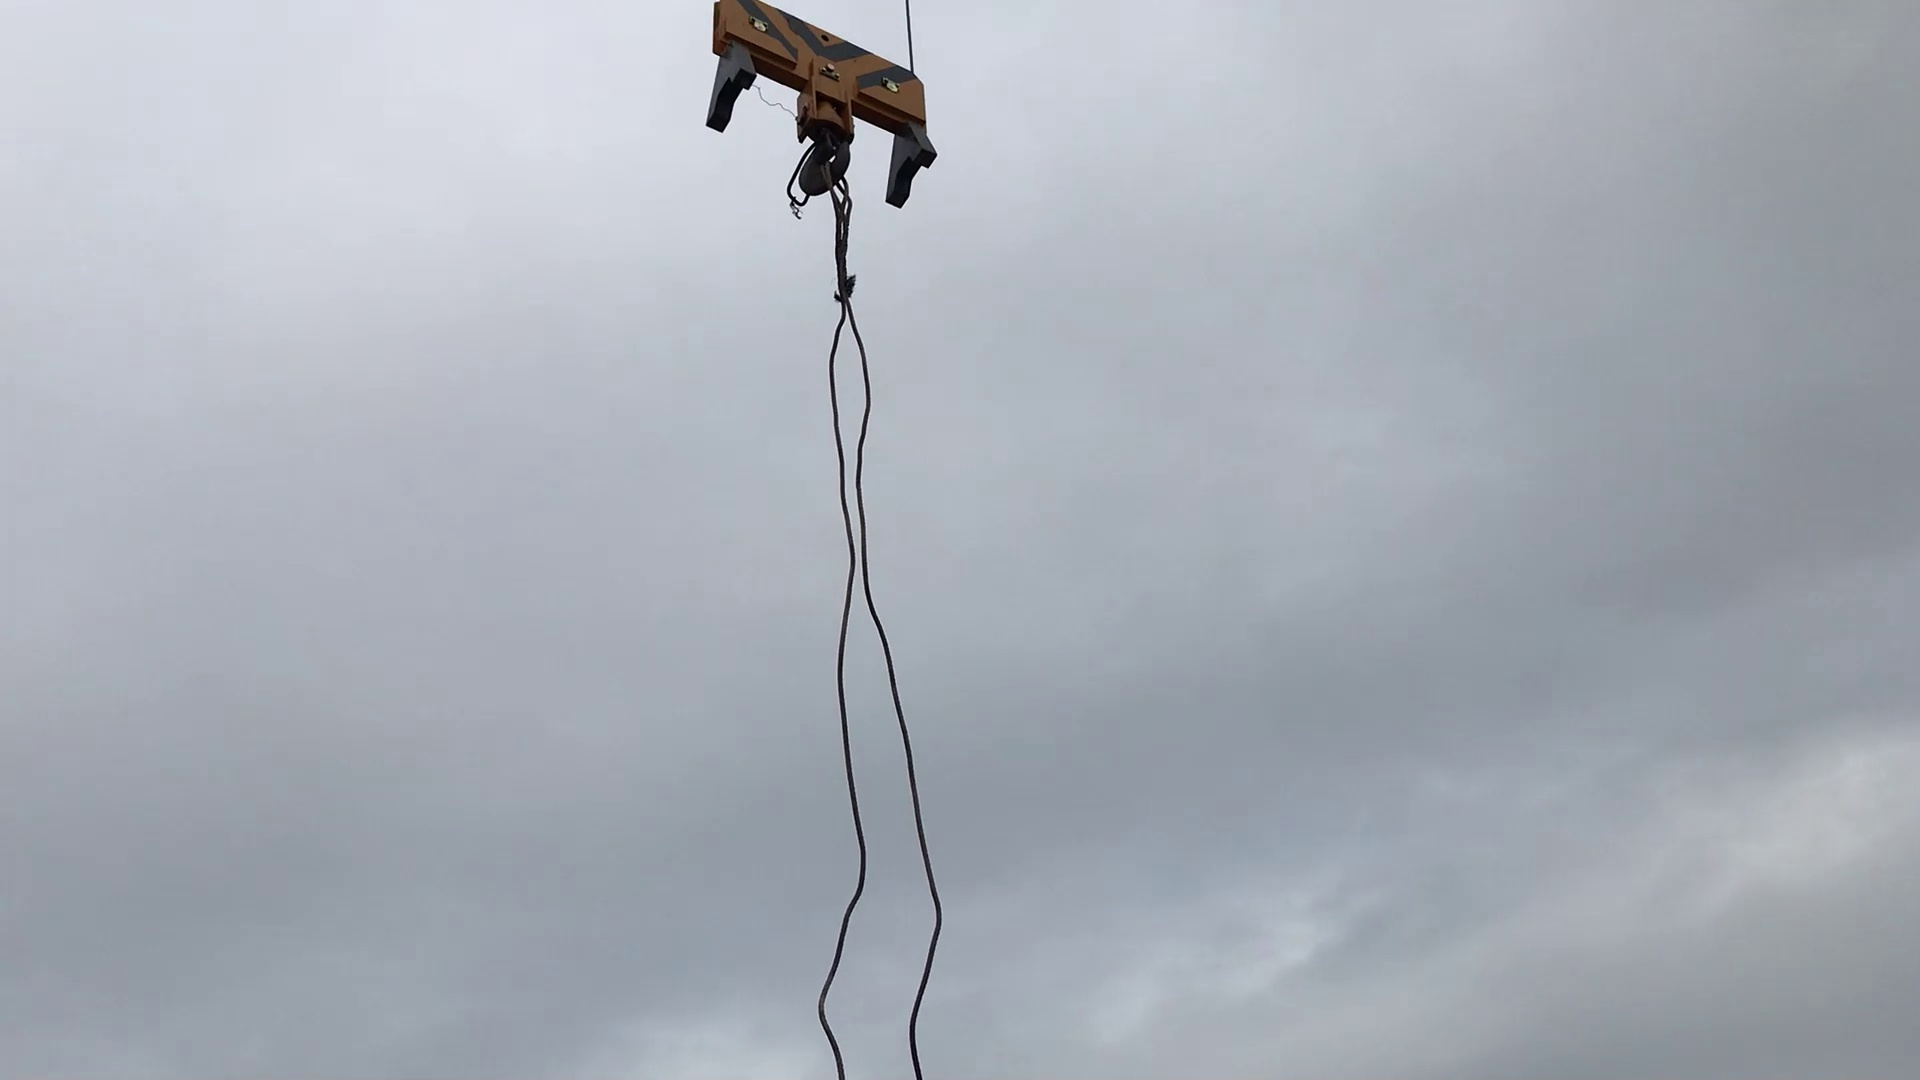hook: (688, 1, 967, 223)
